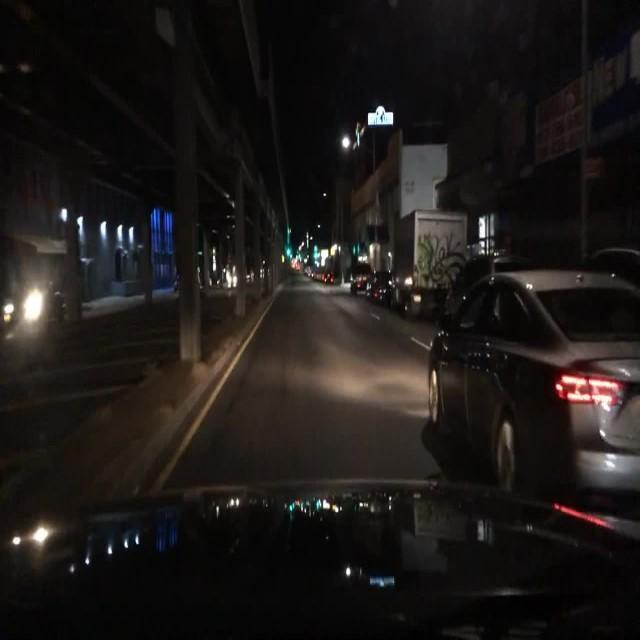normal: (426, 273, 639, 521)
